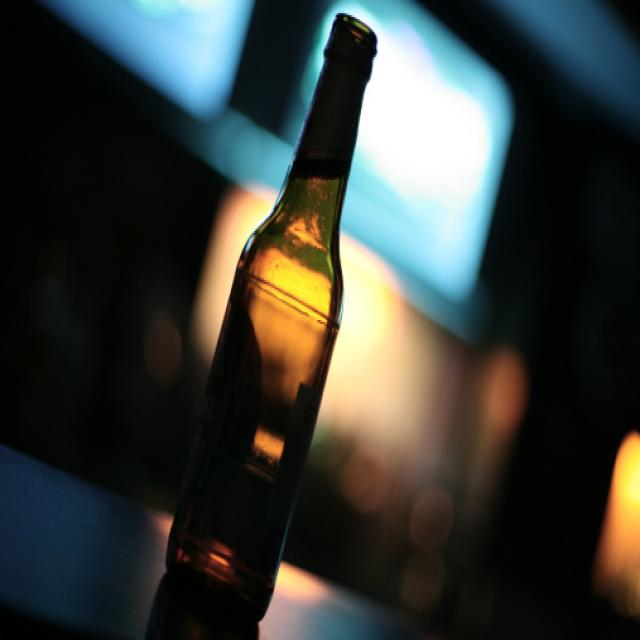Bottle: (160, 0, 381, 629)
